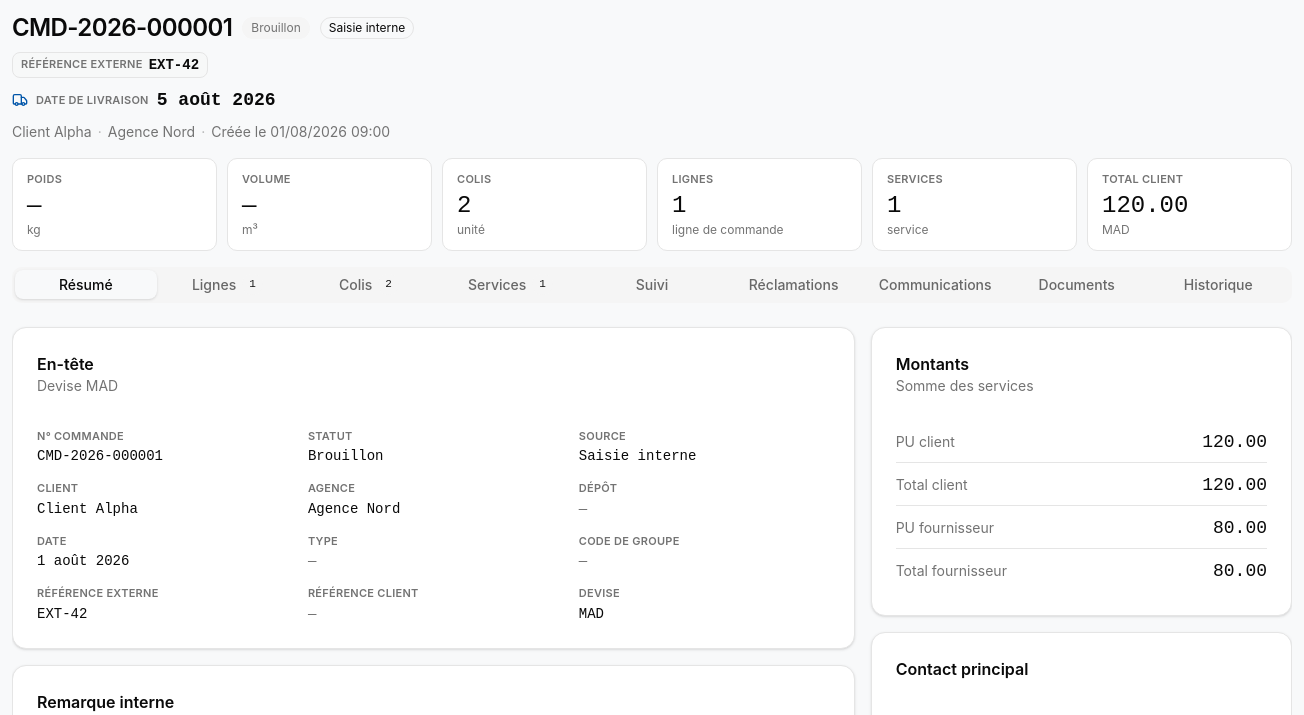
Test: suivi d’une commande › montre le journal brut quand aucun parcours n’est configuré
Click the tab "Suivi".
click(652, 284)  # box [581,270,723,299]
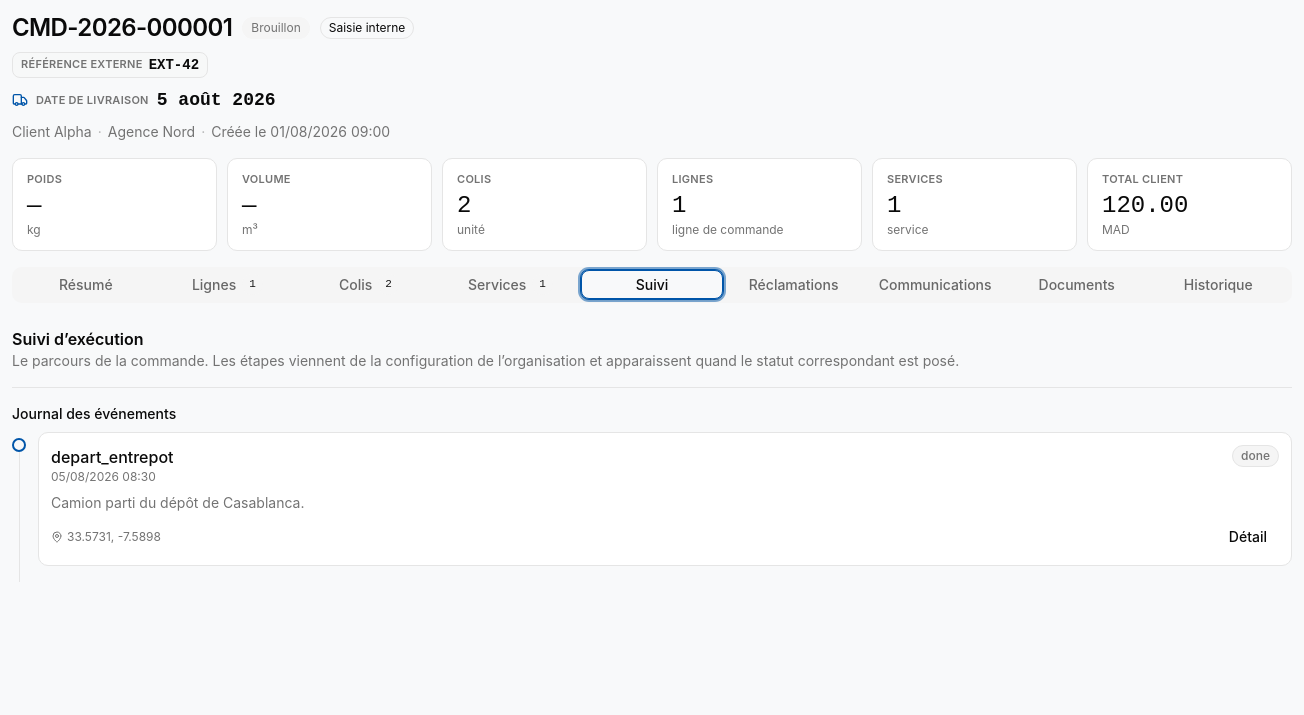
Check: the text "depart_entrepot" is shown, box [51,444,174,468]
Check: the text "Journal des événements" is shown, box [12,404,176,422]
